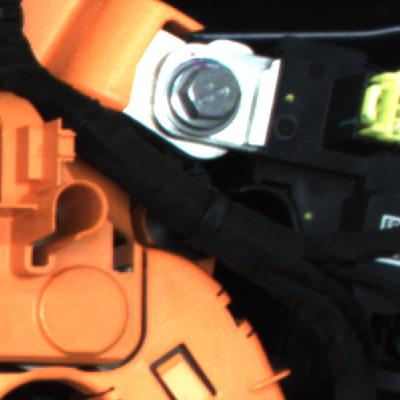nut_b: (160, 49, 250, 144)
